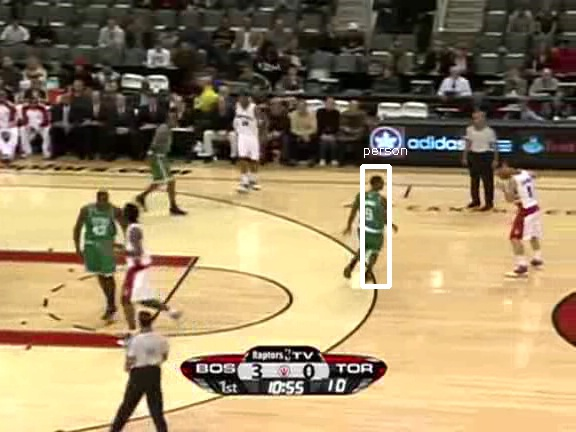person: (357, 184, 391, 265), (356, 184, 390, 265), (358, 184, 392, 265), (357, 183, 391, 264), (357, 185, 391, 266)
target_negative: (253, 82, 487, 404), (261, 42, 467, 297), (348, 16, 389, 282), (322, 171, 456, 207), (320, 305, 341, 418), (566, 408, 574, 427)
